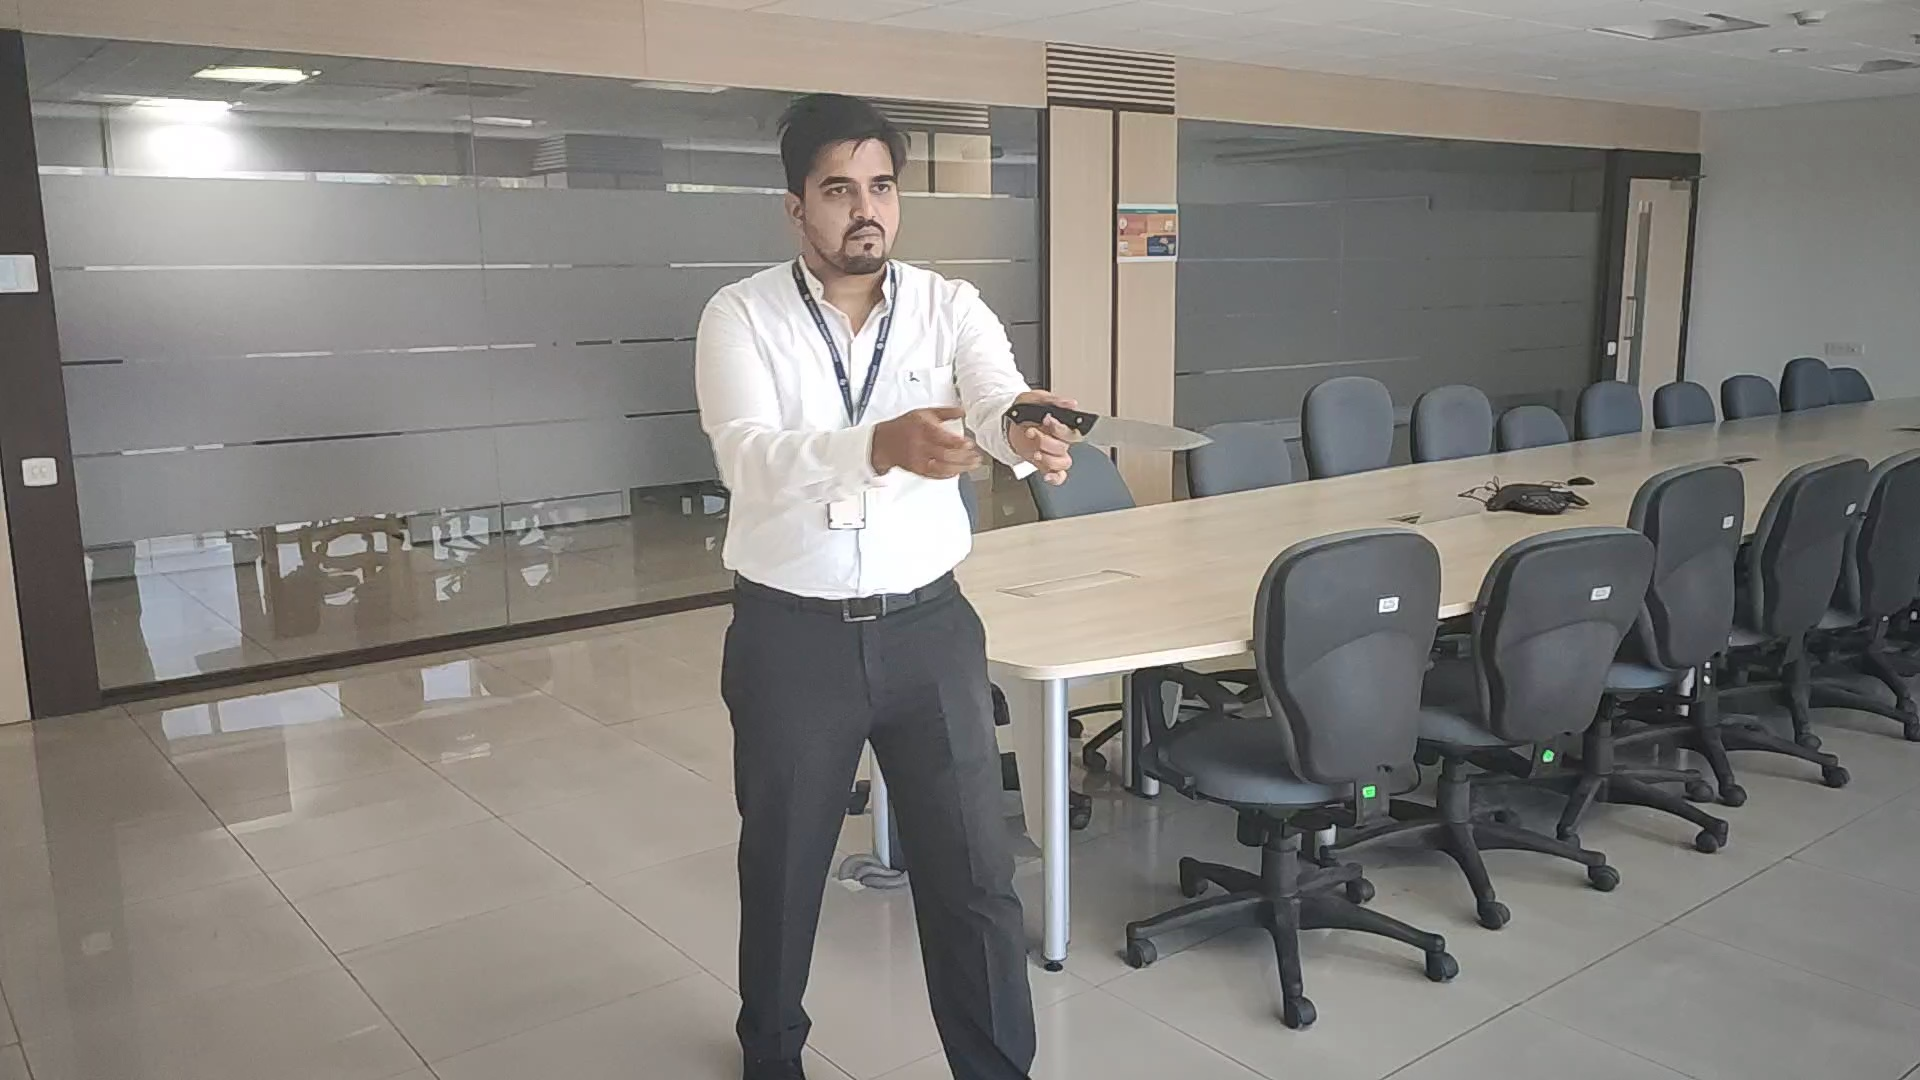knife: (1079, 410, 1217, 452)
